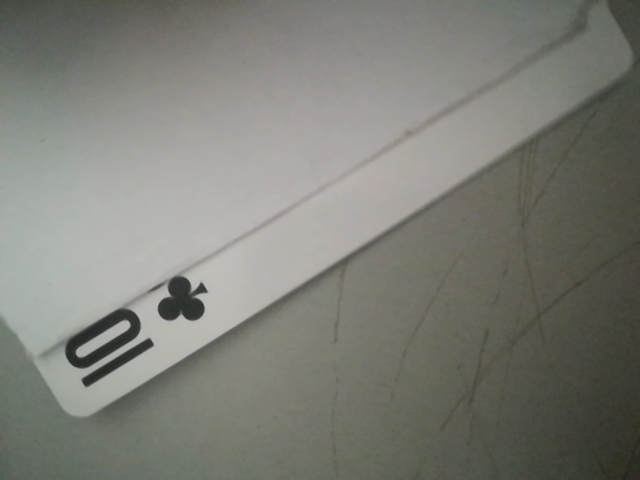mh 10: (42, 266, 220, 404)
